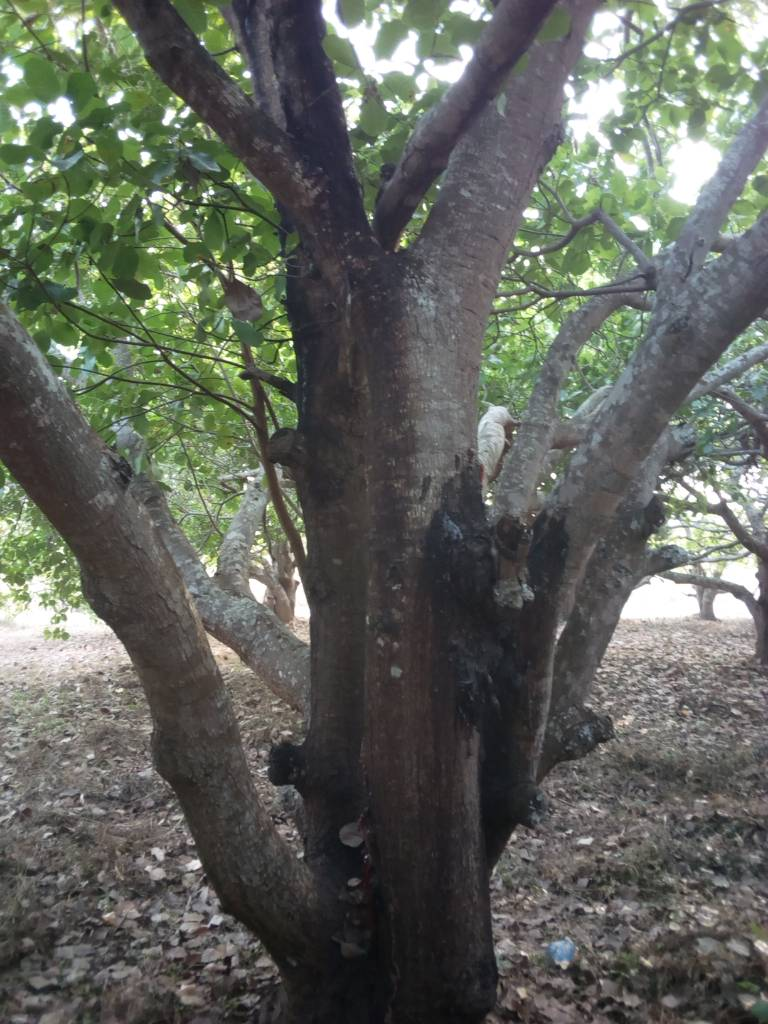Gommose: (425, 466, 569, 724), (293, 21, 405, 289), (294, 274, 313, 428)
